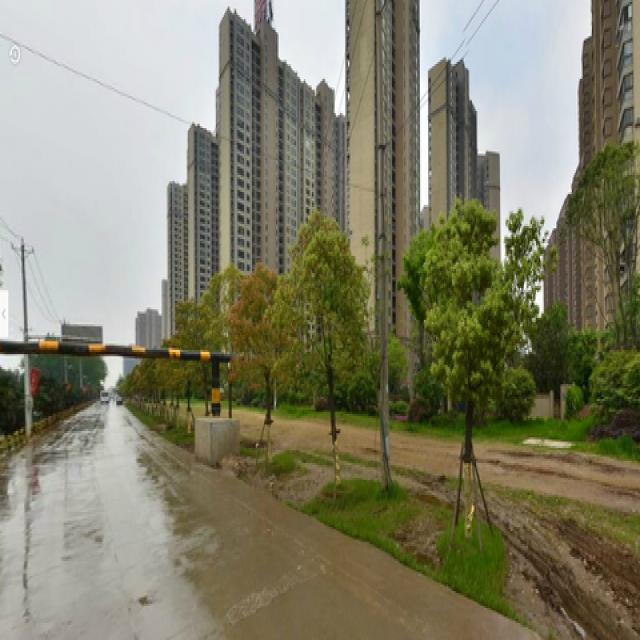cinn: (419, 207, 537, 559)
